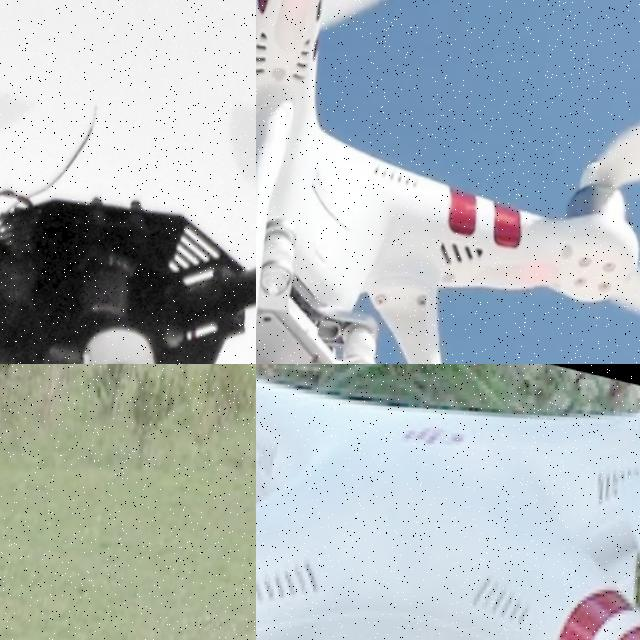0: (256, 364, 640, 640)
drone: (256, 0, 640, 364), (0, 0, 256, 364)
